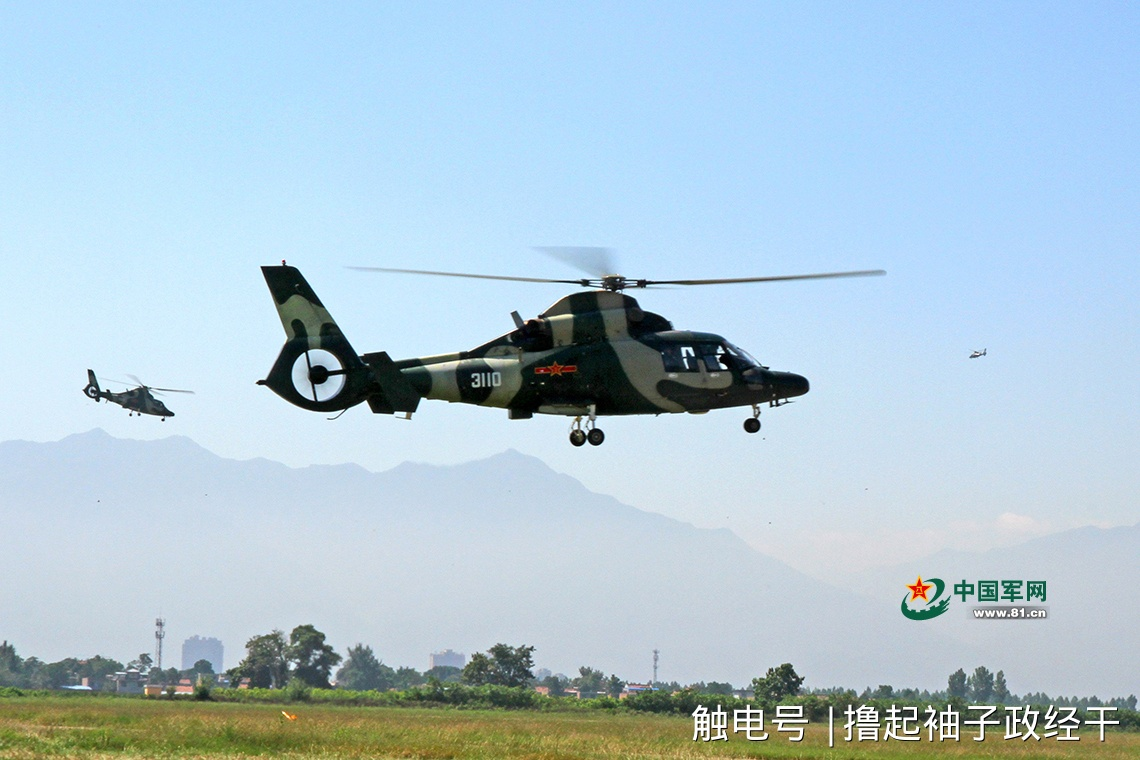airplane: (233, 242, 880, 441), (75, 356, 199, 431), (962, 346, 992, 361)
